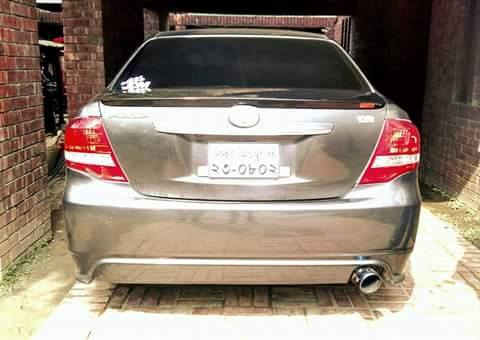registration_plate: (207, 141, 280, 179)
